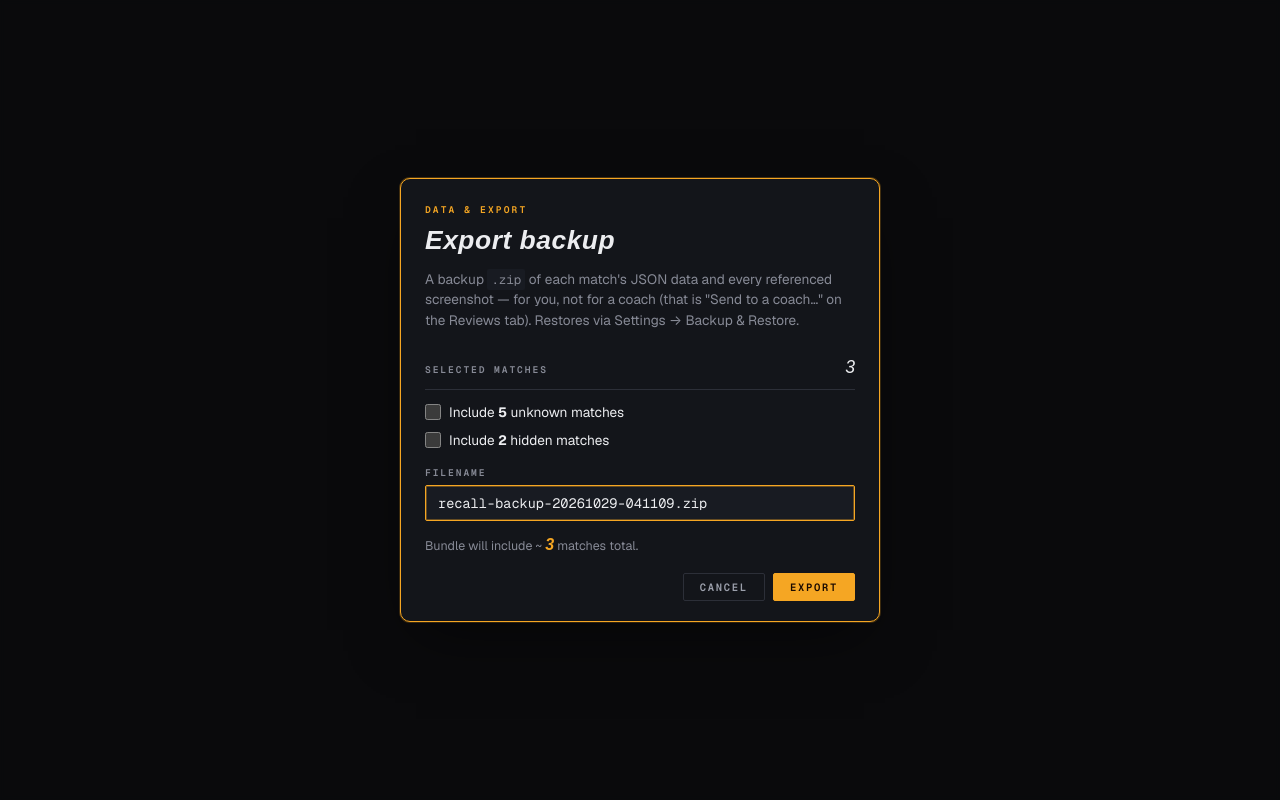
Test case: ExportBundleModal — preview count math › adds hiddenCount when include-hidden is ticked
Click the checkbox labelled "Include 2 hidden matches" at (433, 440), box 425,432 -> 441,448
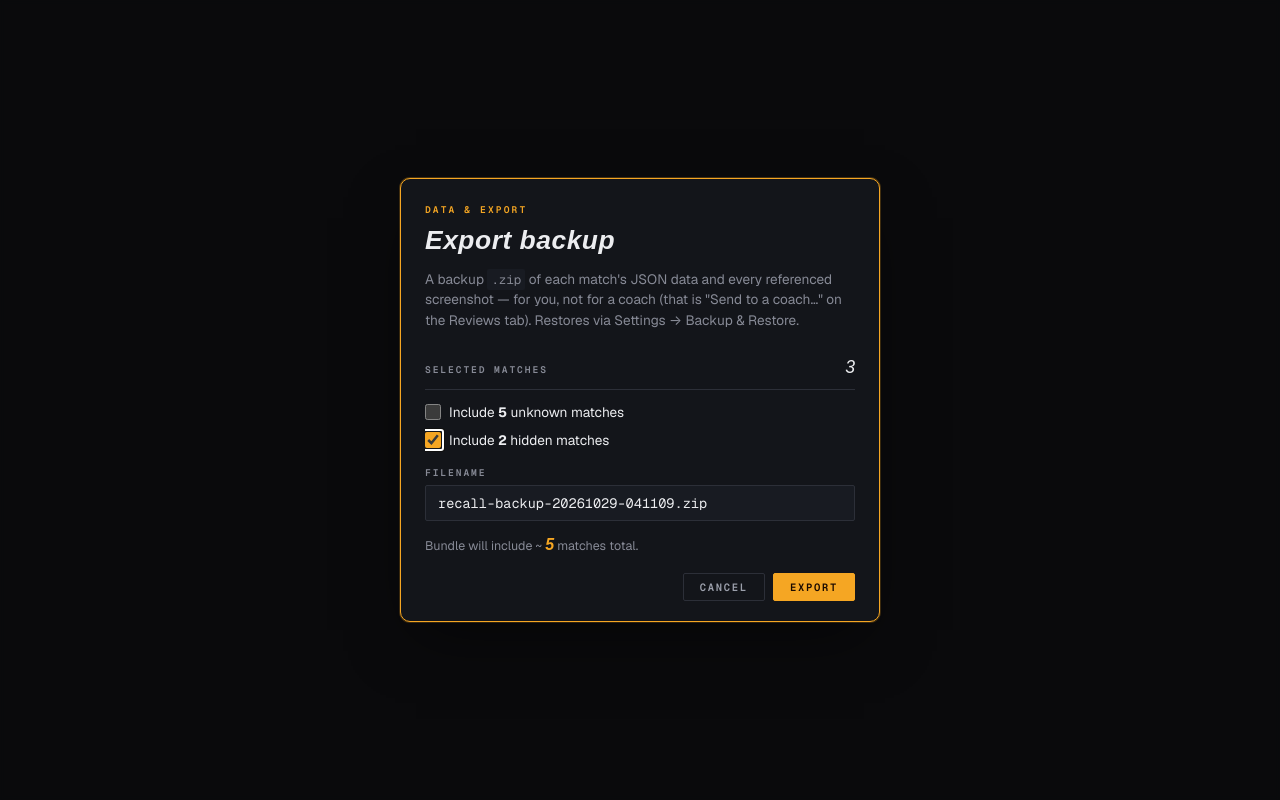
Now the text "Bundle will include ~ 5 matches total." is shown, box 425,536 -> 638,554
